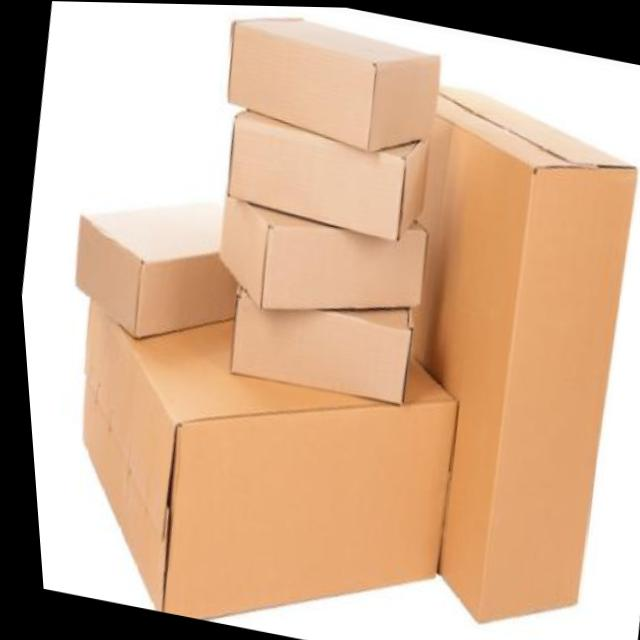box: (351, 43, 640, 640), (25, 295, 489, 640), (207, 4, 462, 176), (40, 162, 237, 366), (201, 99, 449, 254), (198, 190, 446, 334), (212, 286, 430, 423)
